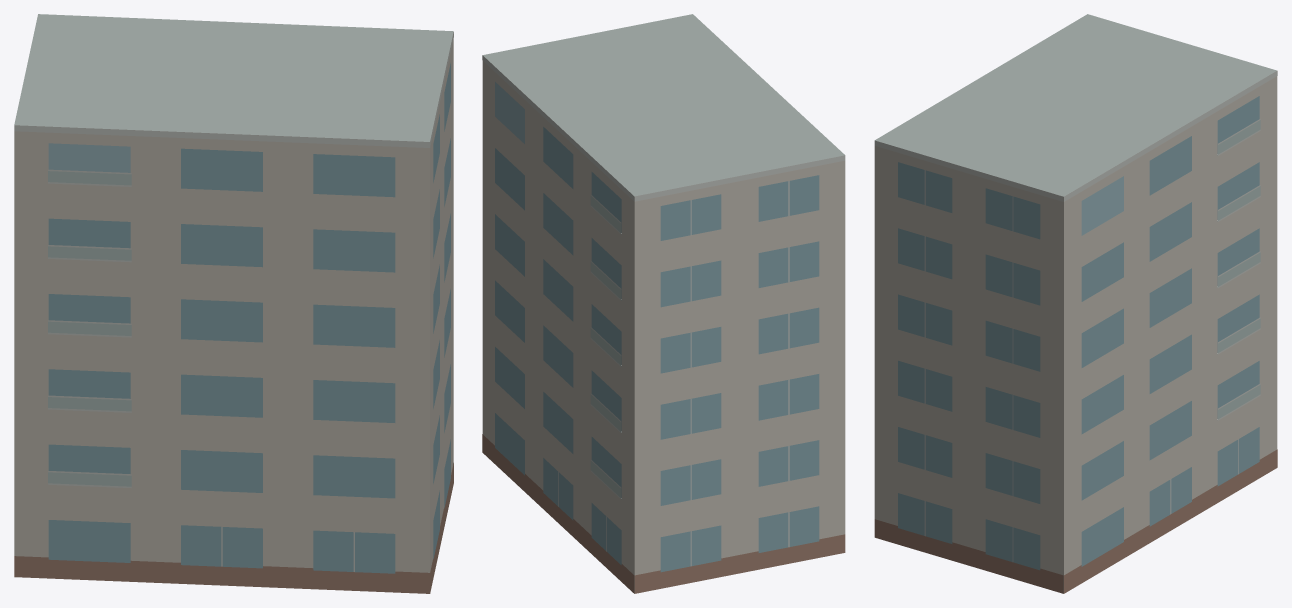
The model's file is survey-upis-32551069.glb.
The picture shows the model from 3 angles, left to right: view 1: azimuth 30°, elevation 25°; view 2: azimuth 150°, elevation 25°; view 3: azimuth 270°, elevation 25°; orthographic projection. The views are drawn at different scales.
Parts seen in each view (by area): view 1: survey-upis-32551069.tmp; view 2: survey-upis-32551069.tmp; view 3: survey-upis-32551069.tmp.
Boxes of the visible parts, <box> form: survey-upis-32551069.tmp: <box>14,14,453,593</box>; survey-upis-32551069.tmp: <box>482,14,845,593</box>; survey-upis-32551069.tmp: <box>874,14,1277,593</box>.
Bounding box in the file's own units: 18.07 × 18.3 × 16.83.
